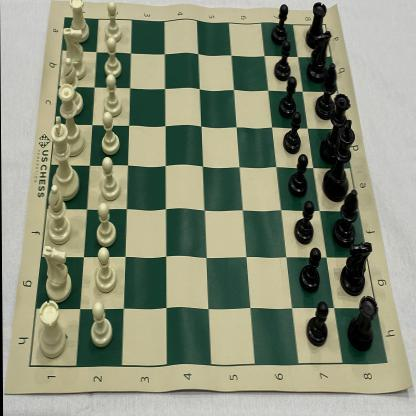black-bishop: (332, 188, 359, 246), (314, 64, 339, 119)
black-king: (322, 119, 357, 202)
black-knight: (339, 240, 373, 294), (306, 31, 332, 82)
black-pawn: (305, 301, 329, 347), (299, 248, 322, 294), (294, 198, 315, 245), (287, 155, 309, 197), (283, 111, 303, 155), (270, 3, 289, 45), (273, 38, 291, 81), (279, 75, 297, 118)
black-queen: (320, 94, 351, 162)
black-rook: (347, 296, 380, 353), (306, 3, 328, 48)
white-bishop: (45, 184, 71, 244), (60, 58, 83, 116)
white-king: (48, 116, 79, 200)
white-knight: (41, 245, 72, 303), (63, 26, 87, 79)
white-pawn: (89, 248, 118, 294), (88, 303, 113, 349), (93, 203, 117, 247), (98, 112, 122, 156), (98, 157, 121, 202), (103, 1, 123, 45), (103, 38, 123, 78), (104, 76, 123, 118)
white-queen: (56, 82, 85, 157)
white-rook: (35, 297, 66, 359), (68, 0, 90, 43)
